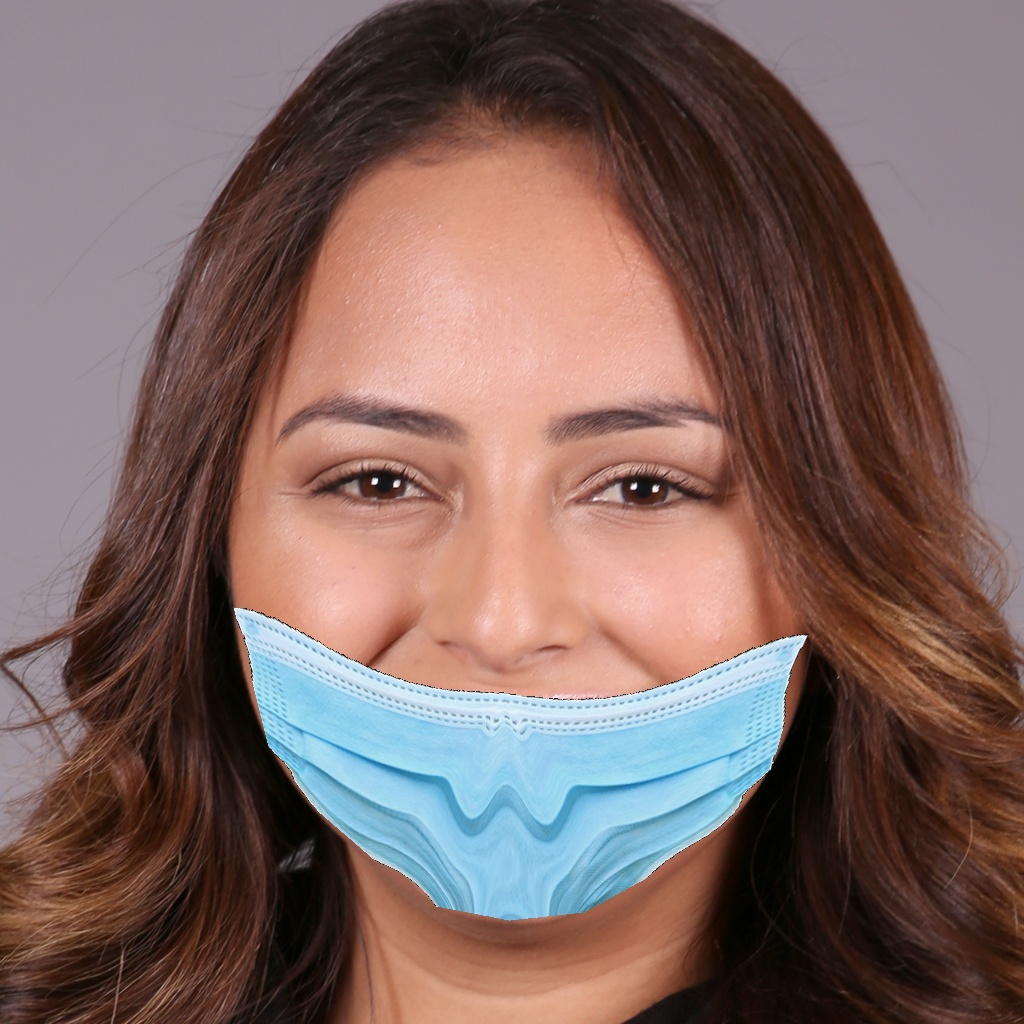mascarilla_mal_puesta: (197, 358, 837, 935)
